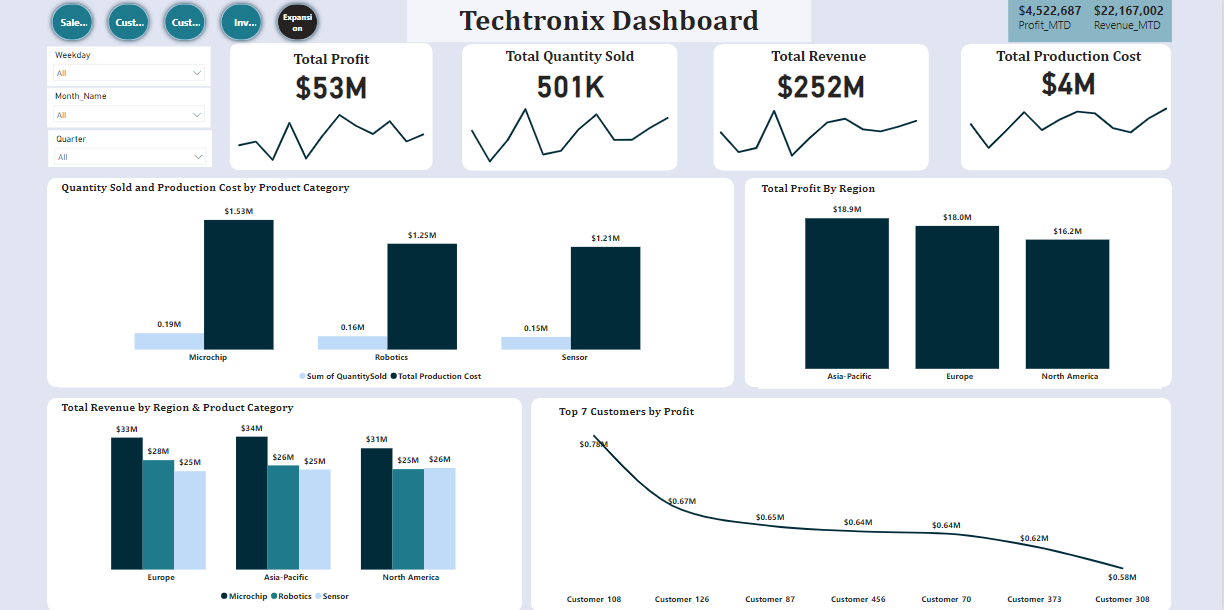

This screenshot's page, from the dashboard's own definition file:
{"tool":"powerbi","page":{"name":"Expansion","canvas":[2000,1000],"ordinal":4},"visuals":[{"type":"shape","box":[380,72,332,208],"z":0},{"type":"shape","box":[760.1,73.8,352.3,206.8],"z":1000},{"type":"shape","box":[1168.5,73.8,352.3,206.8],"z":2000},{"type":"shape","box":[1573.9,73.9,343.5,206.5],"z":3000},{"type":"card","fields":{"Values":["Measures (2).Total Profit"]},"box":[380,95,332.5,85],"z":4000},{"type":"lineChart","fields":{"Category":["Calendar_Dim.Month_Name"],"Y":["Sum(Techtonix Facts Table.Profit)"]},"box":[380,160,332.5,117.5],"z":5000},{"type":"textbox","box":[380,77.5,332.5,42.5],"z":6000},{"type":"card","fields":{"Values":["Measures (2).Total Quantity Sold"]},"box":[760.1,94.3,352.3,86.4],"z":7000},{"type":"textbox","box":[760.1,73.8,352.3,40.9],"z":8000},{"type":"lineChart","fields":{"Category":["Calendar_Dim.Month_Name"],"Y":["Sum(Techtonix Facts Table.QuantitySold)"]},"box":[760.1,155.7,352.3,118.2],"z":9000},{"type":"card","fields":{"Values":["Measures (2).Total Revenue"]},"box":[1168.5,94.3,352.3,86.4],"z":10000},{"type":"lineChart","fields":{"Category":["Calendar_Dim.Month_Name"],"Y":["Sum(Techtonix Facts Table.TotalSaleAmount)"]},"box":[1166.2,155.7,352.3,118.2],"z":11000},{"type":"textbox","box":[1166.2,73.8,352.3,40.9],"z":12000},{"type":"card","fields":{"Values":["Measures (2).Total Production Cost"]},"box":[1573,89.8,352.3,86.4],"z":13000},{"type":"lineChart","fields":{"Category":["Calendar_Dim.Month_Name"],"Y":["Sum(Techtonix Facts Table.ProductionCost)"]},"box":[1573,155.7,352.3,118.2],"z":14000},{"type":"textbox","box":[1573,73.8,352.3,40.9],"z":15000},{"type":"textbox","box":[670,0,660,70],"z":16000},{"type":"pageNavigator","box":[82.5,0,450,75],"z":17000},{"type":"shape","box":[1220,292,698,342],"z":18000},{"type":"multiRowCard","fields":{"Values":["Measures (2).Profit_MTD","Measures (2).Revenue_MTD"]},"box":[1650,0,267.5,70],"z":19000},{"type":"shape","box":[82,292,1122,342],"z":20000},{"type":"shape","box":[872,650,1046,350],"z":21000},{"type":"shape","box":[82,650,776,350],"z":22000},{"type":"clusteredColumnChart","title":"Quantity Sold and Production Cost by Product Category","fields":{"Y":["Sum(Techtonix Facts Table.QuantitySold)","Measures (2).Total Production Cost"],"Category":["Product_Dim.ProductCategory"]},"box":[100,296,1088,338],"z":23000},{"type":"clusteredColumnChart","title":"Total Revenue by Region & Product Category","fields":{"Category":["Location_Dim.Region"],"Y":["Measures (2).Total Revenue"],"Series":["Product_Dim.ProductCategory"]},"box":[100,656,744,338],"z":24000},{"type":"clusteredColumnChart","title":"Total Profit By Region","fields":{"Y":["Measures (2).Total Profit"],"Category":["Location_Dim.Region"]},"box":[1242,298,658,338],"z":25000},{"type":"lineChart","title":"Top 7 Customers by Profit","fields":{"Y":["Measures (2).Total Profit"],"Category":["Customer_Dim.CustomerName"]},"box":[912,662,988,338],"z":26000},{"type":"slicer","fields":{"Values":["Calendar_Dim.Month_Name"]},"box":[81.5,145,267.5,65],"z":26001},{"type":"slicer","fields":{"Values":["Calendar_Dim.Quarter"]},"box":[84,215,267.5,60],"z":26002},{"type":"slicer","fields":{"Values":["Calendar_Dim.Weekday"]},"box":[81.5,77.5,267.5,65],"z":26003}]}

Visuals, with their boxes in screenshot pixels (x1, y1, x2, y2), scaled from the page's 2000x1000 canvas onto the 1224x610 screenshot:
shape: x1=233 y1=44 x2=436 y2=171
shape: x1=465 y1=45 x2=681 y2=171
shape: x1=715 y1=45 x2=931 y2=171
shape: x1=963 y1=45 x2=1173 y2=171
card - Measures (2).Total Profit: x1=233 y1=58 x2=436 y2=110
lineChart - Calendar_Dim.Month_Name x Sum(Techtonix Facts Table.Profit): x1=233 y1=98 x2=436 y2=169
textbox: x1=233 y1=47 x2=436 y2=73
card - Measures (2).Total Quantity Sold: x1=465 y1=58 x2=681 y2=110
textbox: x1=465 y1=45 x2=681 y2=70
lineChart - Calendar_Dim.Month_Name x Sum(Techtonix Facts Table.QuantitySold): x1=465 y1=95 x2=681 y2=167
card - Measures (2).Total Revenue: x1=715 y1=58 x2=931 y2=110
lineChart - Calendar_Dim.Month_Name x Sum(Techtonix Facts Table.TotalSaleAmount): x1=714 y1=95 x2=929 y2=167
textbox: x1=714 y1=45 x2=929 y2=70
card - Measures (2).Total Production Cost: x1=963 y1=55 x2=1178 y2=107
lineChart - Calendar_Dim.Month_Name x Sum(Techtonix Facts Table.ProductionCost): x1=963 y1=95 x2=1178 y2=167
textbox: x1=963 y1=45 x2=1178 y2=70
textbox: x1=410 y1=0 x2=814 y2=43
pageNavigator: x1=50 y1=0 x2=326 y2=46
shape: x1=747 y1=178 x2=1174 y2=387
multiRowCard - Measures (2).Profit_MTD x Measures (2).Revenue_MTD: x1=1010 y1=0 x2=1174 y2=43
shape: x1=50 y1=178 x2=737 y2=387
shape: x1=534 y1=396 x2=1174 y2=609
shape: x1=50 y1=396 x2=525 y2=609
"Quantity Sold and Production Cost by Product Category" clusteredColumnChart: x1=61 y1=181 x2=727 y2=387
"Total Revenue by Region & Product Category" clusteredColumnChart: x1=61 y1=400 x2=517 y2=606
"Total Profit By Region" clusteredColumnChart: x1=760 y1=182 x2=1163 y2=388
"Top 7 Customers by Profit" lineChart: x1=558 y1=404 x2=1163 y2=609
slicer - Calendar_Dim.Month_Name: x1=50 y1=88 x2=214 y2=128
slicer - Calendar_Dim.Quarter: x1=51 y1=131 x2=215 y2=168
slicer - Calendar_Dim.Weekday: x1=50 y1=47 x2=214 y2=87
